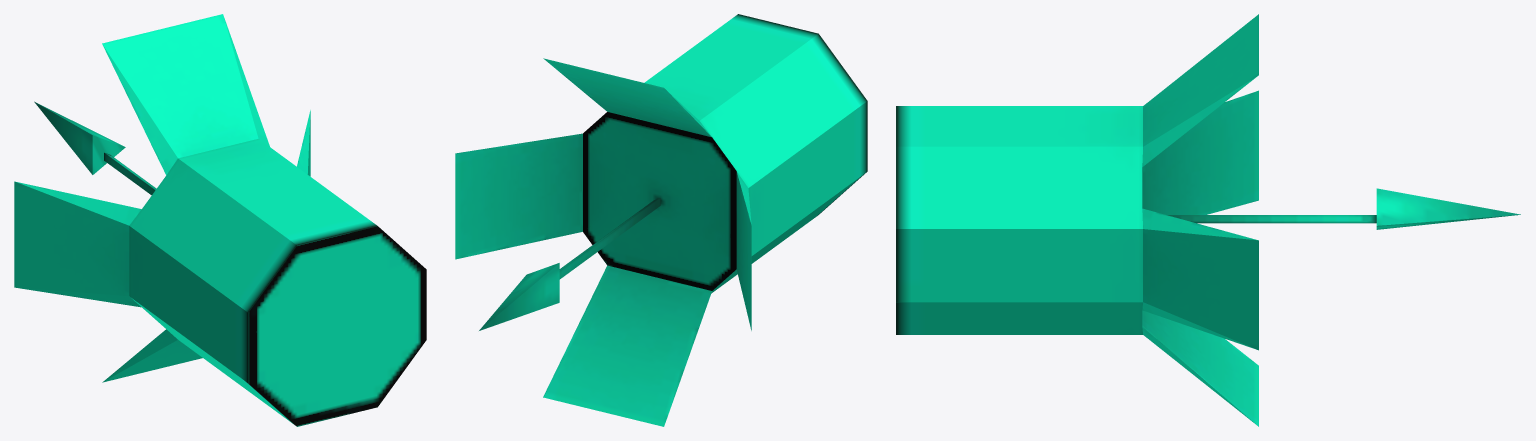
The model's file is Light.FBX.
3 renders of one model, left to right at view 1: azimuth 30°, elevation 25°; view 2: azimuth 150°, elevation 25°; view 3: azimuth 270°, elevation 25°, orthographic. The views are drawn at different scales.
Visible parts, largest first — view 1: objstudio.; view 2: objstudio.; view 3: objstudio..
Part boxes in pixels (x1,y1,x2,y2): objstudio.: (14, 14, 426, 426); objstudio.: (455, 14, 867, 426); objstudio.: (896, 14, 1520, 426).
Bounding box in the file's own units: 4.25 × 4.65 × 7.5.
1 material, 1 textured.
